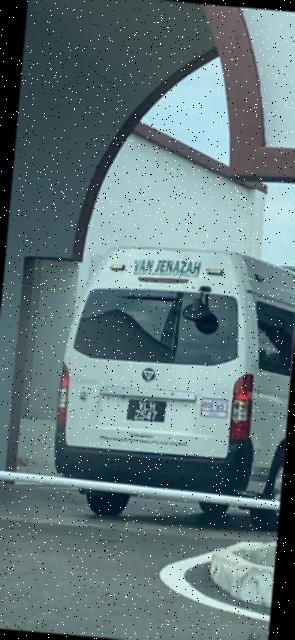License_Plate: (126, 394, 172, 426)
van: (32, 236, 295, 533)
